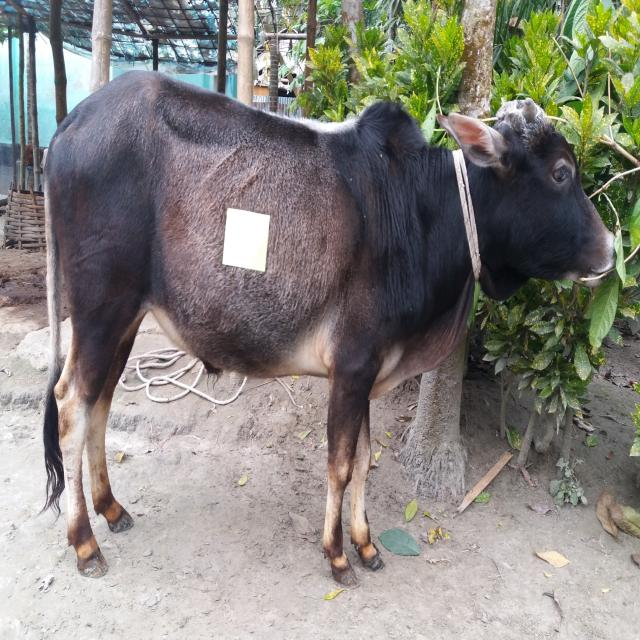badan_sapi: (46, 101, 392, 384)
sapi: (39, 64, 620, 586)
